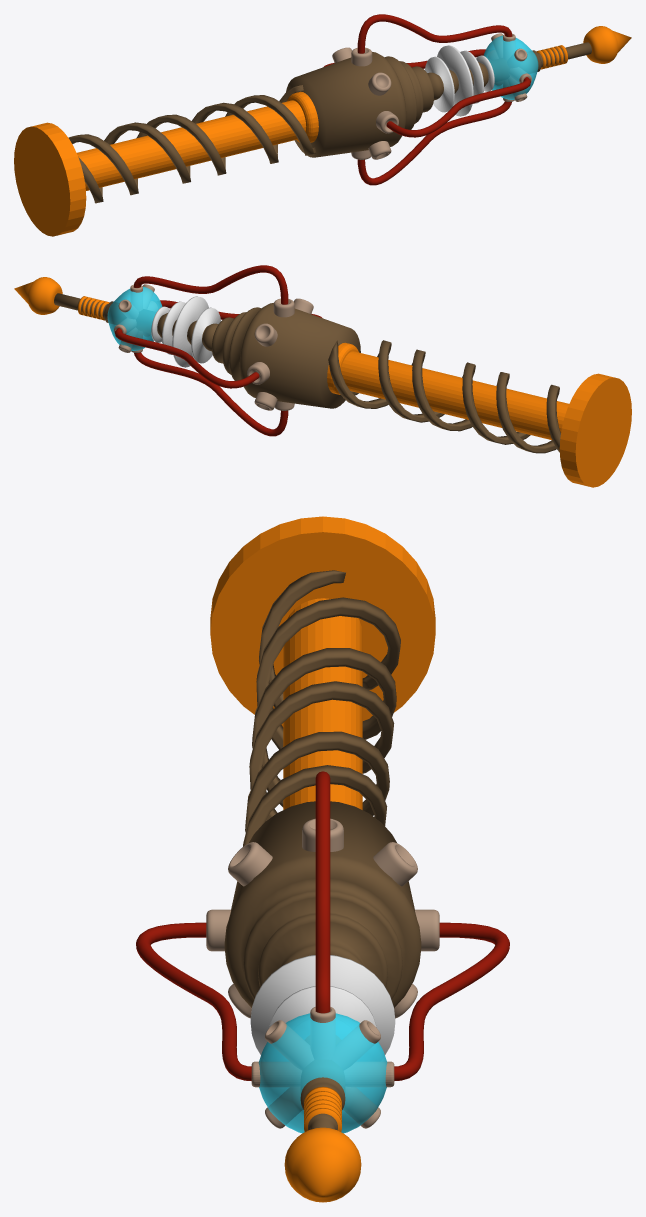
File: Deco-Bonus-C.fbx
3 renders of one model, top to bottom at view 1: azimuth 30°, elevation 25°; view 2: azimuth 150°, elevation 25°; view 3: azimuth 270°, elevation 25°, orthographic. The views are drawn at different scales.
Visible parts, largest first — view 1: Deco-Bonus-C; view 2: Deco-Bonus-C; view 3: Deco-Bonus-C.
Boxes of the visible parts, x1,y1,x2,y2 form: Deco-Bonus-C: (14, 14, 631, 236); Deco-Bonus-C: (14, 265, 631, 487); Deco-Bonus-C: (136, 516, 509, 1202).
Bounding box in the file's own units: 38589 × 10602 × 10602.
